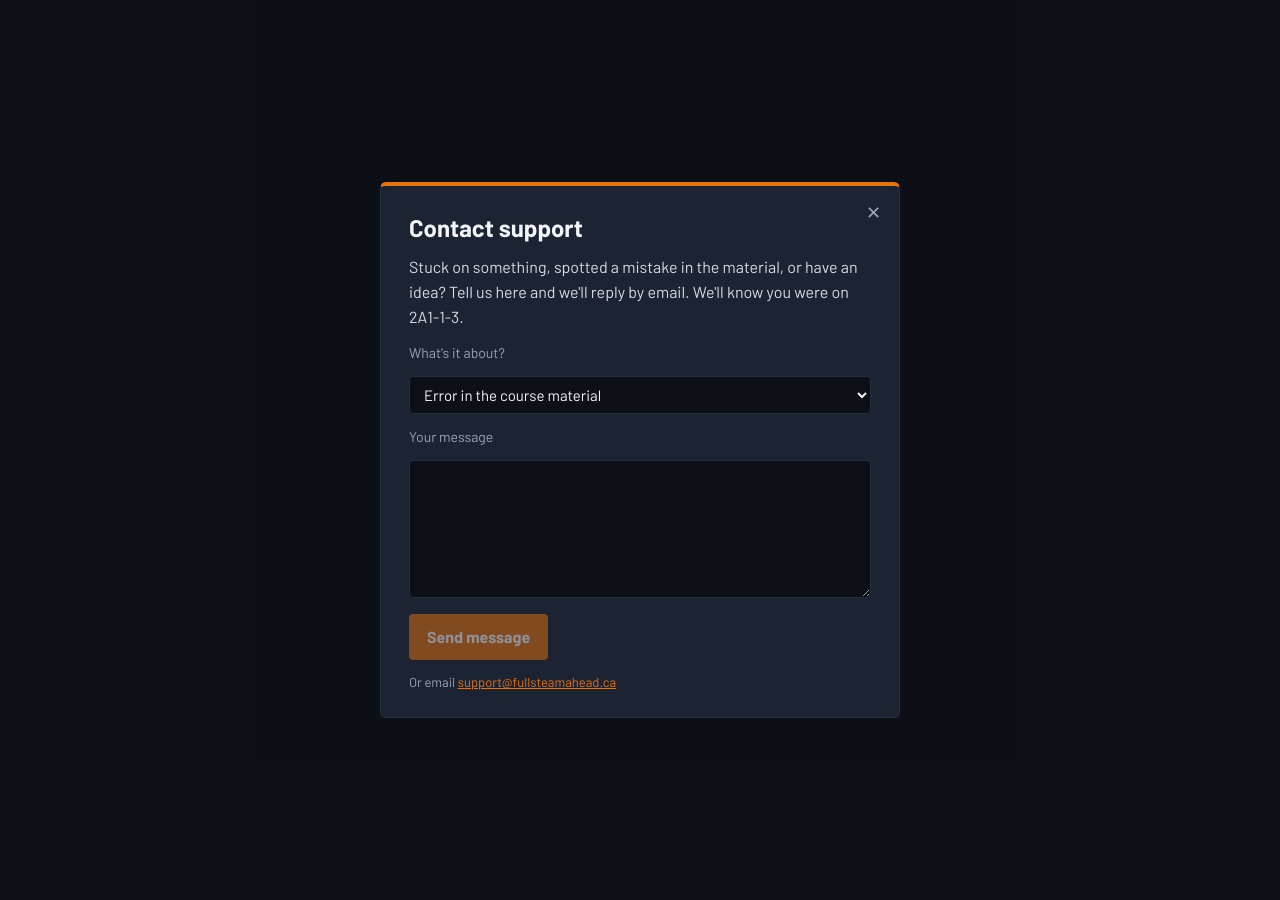
Test: ContactSupportModal › sends category, message and lesson context, then thanks the student
Expected: the dropdown labelled "What's it about?" shows "Error in the course material", [409,376,871,414]
Expected: the button "Send message" is disabled, [409,614,548,660]
Step 1. Type " Slide 4 is wrong " into the text box labelled "Your message" → (640, 529), box [409,460,871,598]
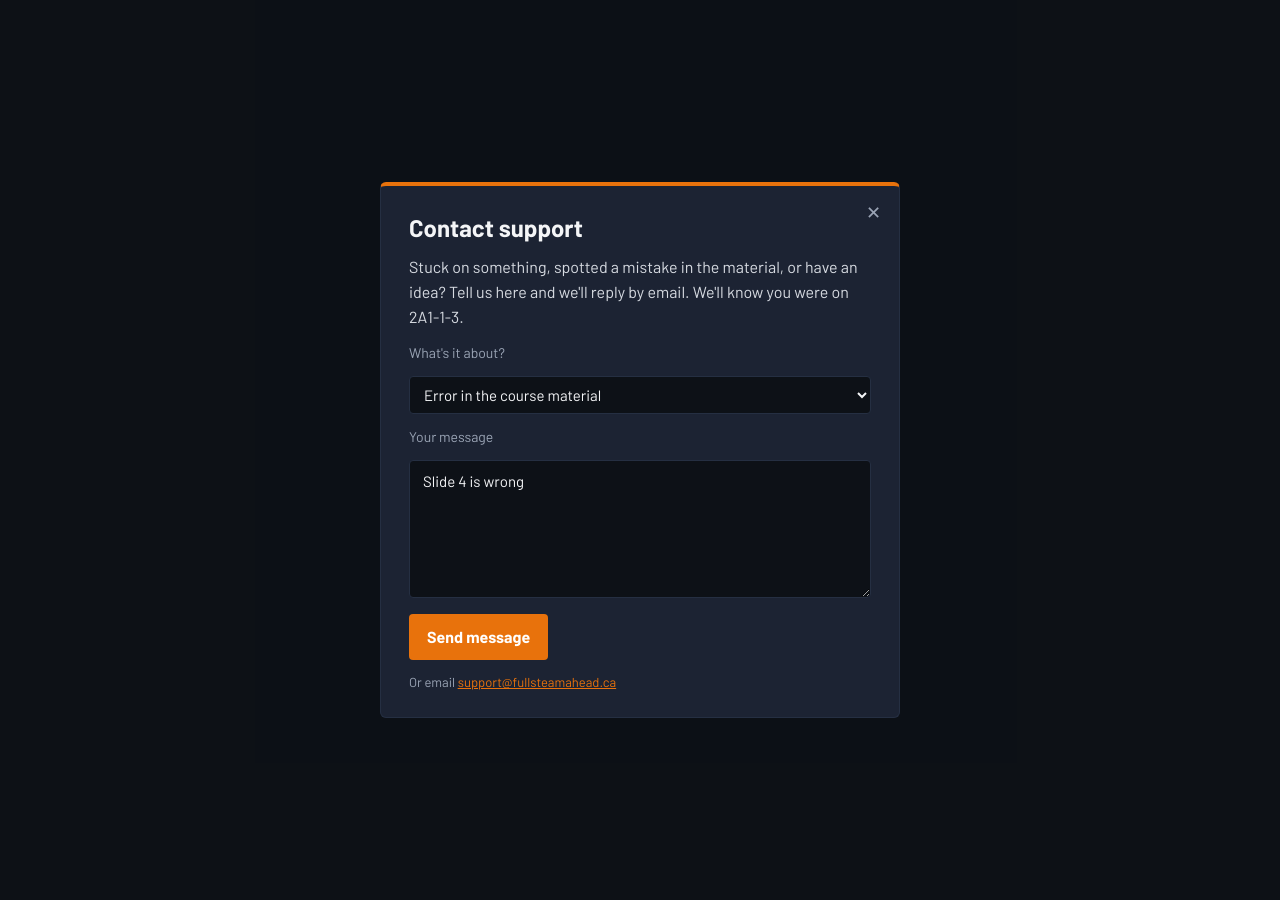
Step 2. Click the button "Send message" → (479, 637), box [409,614,548,660]
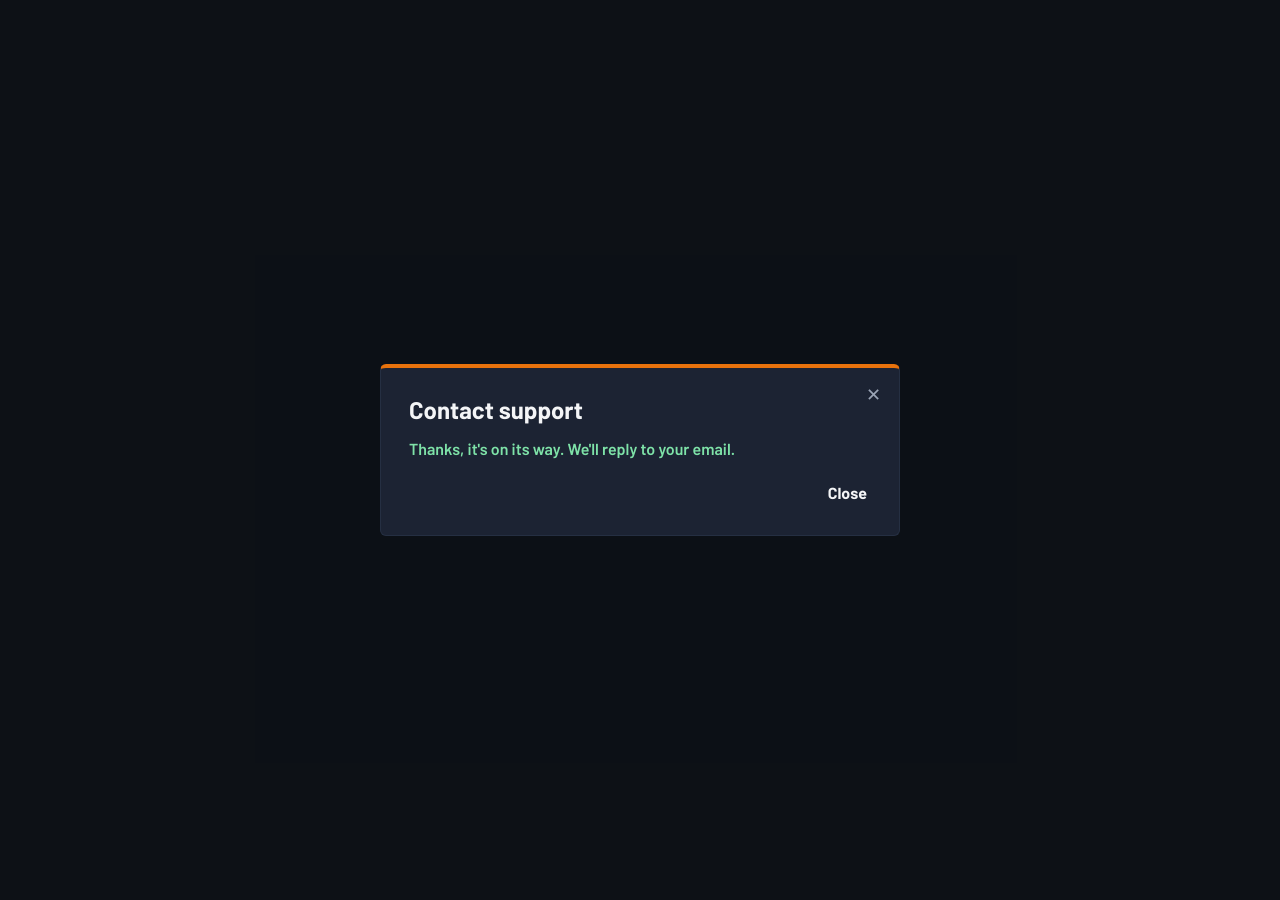
Expected: the text "Thanks, it's on its way. We'll reply to your email." is shown, [409,439,735,458]
